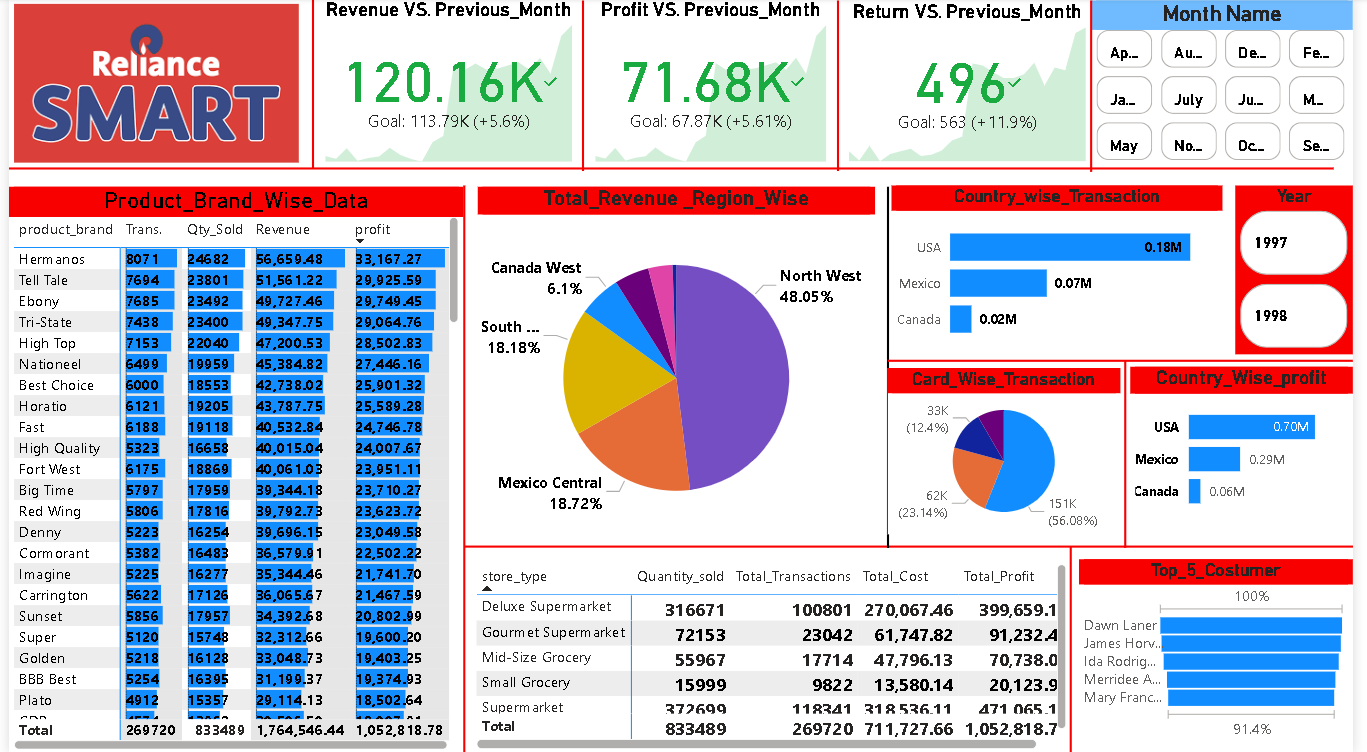

What the dashboard file says about the page in this screenshot:
{"tool":"powerbi","page":{"name":"Page 1","canvas":[1280,720],"ordinal":0},"visuals":[{"type":"image","box":[0,0,280.8,161.6],"z":0},{"type":"shape","box":[0,145.2,1261.6,34.2],"z":1000},{"type":"pivotTable","title":"Product_Brand_Wise_Data","fields":{"Rows":["D_Products.product_brand"],"Values":["Measure.M_total_transactions","Measure.M_quantity_sold","Measure.M_total_revenue","Measure.M_total_profit"]},"box":[0,179.5,432.9,541.1],"z":2000},{"type":"shape","box":[427.7,178.5,12.5,541.2],"z":3000},{"type":"pieChart","title":"Total_Revenue _Region_Wise","fields":{"Category":["Regions.sales_region"],"Y":["Measure.M_total_revenue"]},"box":[446,180.3,378.6,342.8],"z":4000},{"type":"pivotTable","fields":{"Rows":["Stores.store_type"],"Values":["Measure.M_quantity_sold","Measure.M_total_transactions","Measure.M_total_cost","Measure.M_total_profit"]},"box":[440.1,534.3,571.6,185.5],"z":5000},{"type":"shape","box":[433.2,510.7,847.1,23.5],"z":6000},{"type":"kpi","title":"Revenue VS. Previous_Month","fields":{"Indicator":["Measure.M_total_revenue"],"TrendLine":["Calendar.Start of Month"],"Goal":["Measure.M_previous_month_revenue"]},"box":[296,0,245,161.1],"z":7000},{"type":"shape","box":[283.6,0,12.4,162.4],"z":8000},{"type":"shape","box":[541,2.8,12.4,162.4],"z":9000},{"type":"shape","box":[831.5,180.3,12.4,344.2],"z":10000},{"type":"shape","box":[783.3,2.8,12.4,162.4],"z":11000},{"type":"kpi","title":"Profit VS. Previous_Month","fields":{"TrendLine":["Calendar.Start of Month"],"Indicator":["Measure.M_total_profit"],"Goal":["Measure.M_previous_month_profit"]},"box":[553.4,0,229.9,161.1],"z":12000},{"type":"kpi","title":"Return VS. Previous_Month","fields":{"TrendLine":["Calendar.Start of Month"],"Goal":["Measure.M_previous_month_returns"],"Indicator":["Measure.M_total_returns"]},"box":[795.7,2.8,235.4,158.3],"z":13000},{"type":"advancedSlicerVisual","fields":{"Values":["Calendar.Month Name"]},"box":[1031.1,2.8,249.1,157.8],"z":14000},{"type":"shape","box":[1020.1,2.8,20.8,163.3],"z":15000},{"type":"shape","box":[1003.5,523.2,15.2,196.5],"z":16000},{"type":"barChart","title":"Country_Wise_profit","fields":{"Category":["Stores.store_country"],"Y":["Measure.M_total_profit"]},"box":[1067.9,351.2,211.9,148.8],"z":17000},{"type":"advancedSlicerVisual","fields":{"Values":["Calendar.Year"]},"box":[1168.2,178.5,112.1,160.6],"z":18000},{"type":"barChart","title":"Country_wise_Transaction","fields":{"Category":["Stores.store_country"],"Y":["Measure.M_total_transactions"]},"box":[840.1,178.5,315.6,160.6],"z":19000},{"type":"pieChart","title":"Card_Wise_Transaction","fields":{"Category":["D_Customers.member_card"],"Y":["Measure.M_total_transactions"]},"box":[836.9,352.4,221.4,158.3],"z":20000},{"type":"shape","box":[837.4,339.1,442.9,12.5],"z":21000},{"type":"funnel","title":"Top_5_Costumer ","fields":{"Category":["D_Customers.Full_name"],"Y":["Measure.M_total_transactions"]},"box":[1019.1,534.5,260.7,176.2],"z":22000},{"type":"shape","box":[1058.3,345.2,9.5,178.6],"z":23000}]}

Visuals, with their boxes in screenshot pixels (x1, y1, x2, y2), scaled from the page's 1280x720 canvas onto the 1367x752 screenshot:
image: bbox(0, 0, 300, 169)
shape: bbox(0, 152, 1347, 187)
"Product_Brand_Wise_Data" pivotTable: bbox(0, 187, 462, 751)
shape: bbox(457, 186, 470, 751)
"Total_Revenue _Region_Wise" pieChart: bbox(476, 188, 881, 546)
pivotTable - Stores.store_type x Measure.M_quantity_sold: bbox(470, 558, 1080, 751)
shape: bbox(463, 533, 1366, 558)
"Revenue VS. Previous_Month" kpi: bbox(316, 0, 578, 168)
shape: bbox(303, 0, 316, 170)
shape: bbox(578, 3, 591, 173)
shape: bbox(888, 188, 901, 548)
shape: bbox(837, 3, 850, 173)
"Profit VS. Previous_Month" kpi: bbox(591, 0, 837, 168)
"Return VS. Previous_Month" kpi: bbox(850, 3, 1101, 168)
advancedSlicerVisual - Calendar.Month Name: bbox(1101, 3, 1366, 168)
shape: bbox(1089, 3, 1112, 173)
shape: bbox(1072, 546, 1088, 751)
"Country_Wise_profit" barChart: bbox(1140, 367, 1366, 522)
advancedSlicerVisual - Calendar.Year: bbox(1248, 186, 1366, 354)
"Country_wise_Transaction" barChart: bbox(897, 186, 1234, 354)
"Card_Wise_Transaction" pieChart: bbox(894, 368, 1130, 533)
shape: bbox(894, 354, 1366, 367)
"Top_5_Costumer " funnel: bbox(1088, 558, 1366, 742)
shape: bbox(1130, 361, 1140, 547)
